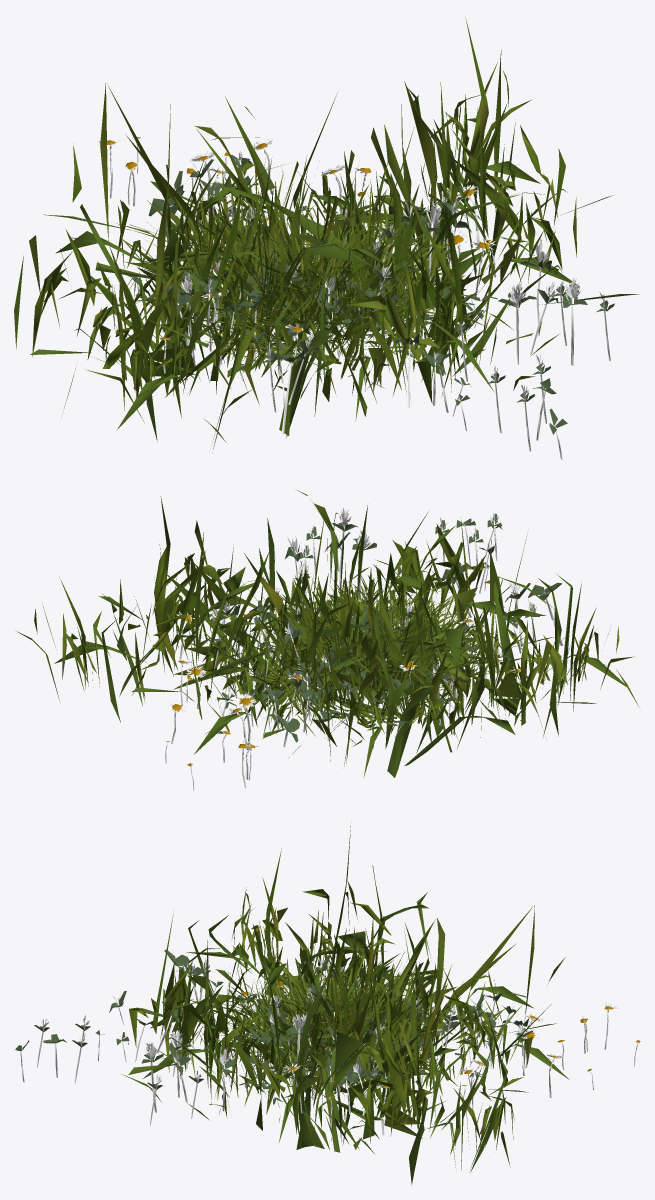
The model's file is touceiras.glb.
3 views of the same model, one above another, from view 1: azimuth 30°, elevation 25°; view 2: azimuth 150°, elevation 25°; view 3: azimuth 270°, elevation 25° (orthographic). The views are drawn at different scales.
Visible parts, largest first — view 1: sc_grass_dry_01_high, sc_grass_wild_clump_02_high.002, sc_clovers_03_high, sc_grass_clump_02_high.002, sc_grass_clump_03_high, sc_grass_02_high.002, sc_daisies_high, sc_clovers_01_high, sc_grass_duo_02_high.002; view 2: sc_grass_dry_01_high, sc_grass_wild_clump_02_high.002, sc_clovers_03_high, sc_grass_clump_03_high, sc_grass_clump_02_high.002, sc_grass_02_high.002, sc_daisies_high, sc_clovers_01_high, sc_grass_duo_02_high.002; view 3: sc_grass_dry_01_high, sc_grass_wild_clump_02_high.002, sc_clovers_03_high, sc_grass_clump_03_high, sc_grass_clump_02_high.002, sc_grass_02_high.002, sc_clovers_01_high, sc_daisies_high, sc_grass_duo_02_high.002.
Boxes of the visible parts, x1=… form: sc_grass_dry_01_high: x1=14, y1=18, x2=576, y2=422; sc_grass_wild_clump_02_high.002: x1=30, y1=88, x2=639, y2=448; sc_clovers_03_high: x1=148, y1=151, x2=614, y2=459; sc_grass_clump_02_high.002: x1=171, y1=198, x2=470, y2=359; sc_grass_clump_03_high: x1=135, y1=168, x2=519, y2=370; sc_grass_02_high.002: x1=94, y1=196, x2=559, y2=420; sc_daisies_high: x1=96, y1=137, x2=497, y2=373; sc_clovers_01_high: x1=126, y1=206, x2=497, y2=387; sc_grass_duo_02_high.002: x1=123, y1=198, x2=462, y2=377; sc_grass_dry_01_high: x1=16, y1=496, x2=639, y2=766; sc_grass_wild_clump_02_high.002: x1=54, y1=490, x2=626, y2=777; sc_clovers_03_high: x1=211, y1=508, x2=562, y2=747; sc_grass_clump_03_high: x1=191, y1=569, x2=474, y2=734; sc_grass_clump_02_high.002: x1=249, y1=574, x2=501, y2=706; sc_grass_02_high.002: x1=177, y1=559, x2=550, y2=762; sc_daisies_high: x1=165, y1=585, x2=520, y2=790; sc_clovers_01_high: x1=216, y1=600, x2=511, y2=737; sc_grass_duo_02_high.002: x1=233, y1=597, x2=484, y2=748; sc_grass_dry_01_high: x1=129, y1=826, x2=565, y2=1169; sc_grass_wild_clump_02_high.002: x1=128, y1=892, x2=569, y2=1184; sc_clovers_03_high: x1=15, y1=949, x2=532, y2=1125; sc_grass_clump_03_high: x1=209, y1=936, x2=505, y2=1111; sc_grass_clump_02_high.002: x1=208, y1=949, x2=445, y2=1089; sc_grass_02_high.002: x1=122, y1=952, x2=525, y2=1132; sc_clovers_01_high: x1=203, y1=984, x2=489, y2=1107; sc_daisies_high: x1=241, y1=965, x2=640, y2=1135; sc_grass_duo_02_high.002: x1=232, y1=977, x2=452, y2=1110.
Size of the model in its own units: 0.8245 by 0.394 by 0.921.
Materials: 8 (5 with a texture image).
